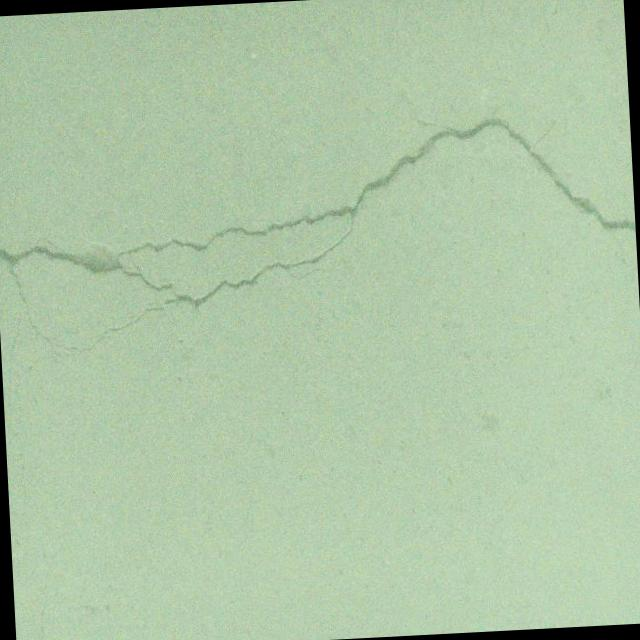crack: (0, 38, 640, 433), (33, 553, 56, 640), (10, 452, 30, 546), (529, 0, 566, 49)
